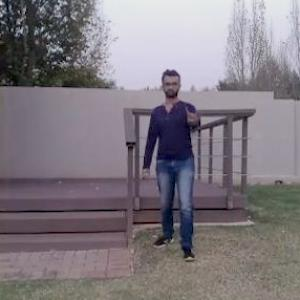takeoff-hand: (180, 102, 204, 128)
